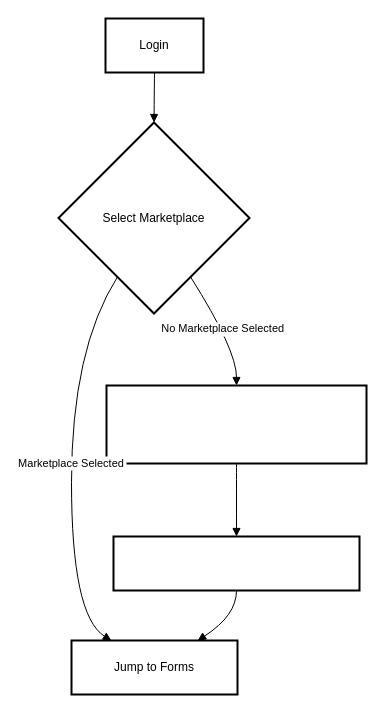
Some shapes in this 384 by 712 pixel diagram are drawn without their labels. The centre of each missing label's shape, as x and y in pixels:
Display Marketplace Options: (x=236, y=424)
User Chooses Marketplace: (x=236, y=563)
